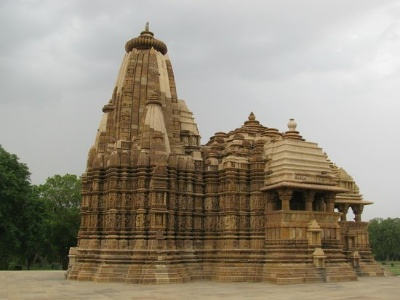amalaka: (118, 33, 174, 57)
gopuram: (95, 49, 195, 158)
mandapa: (258, 177, 340, 219), (328, 195, 376, 227)
